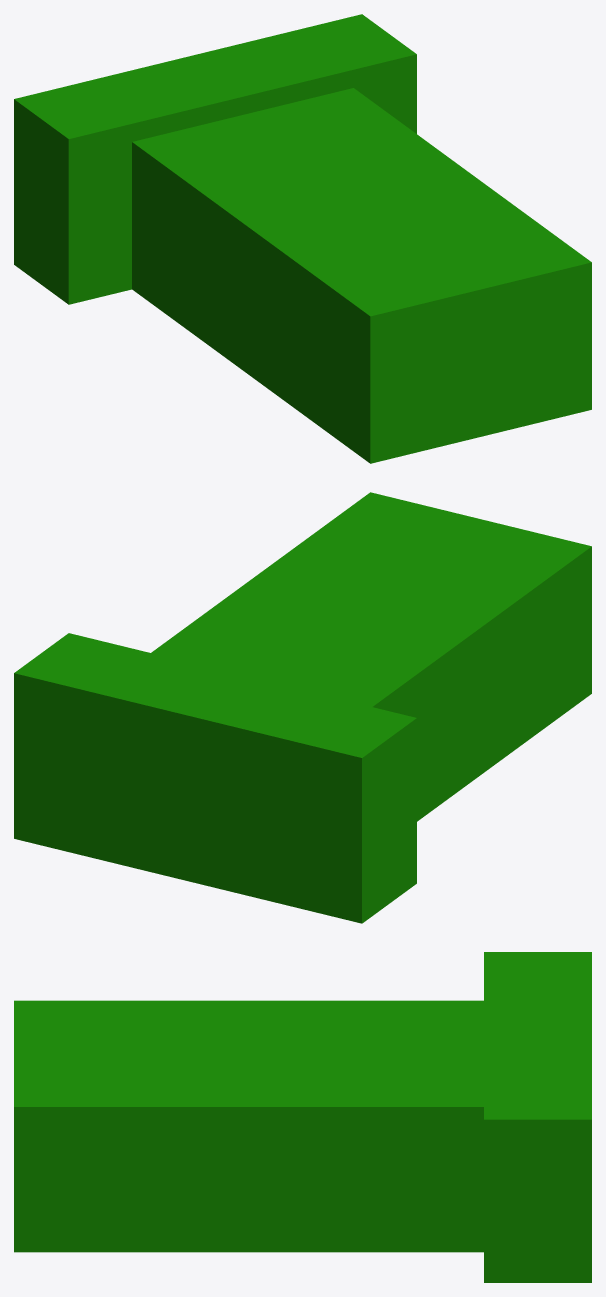
3 views of the same model, one above another, from view 1: azimuth 30°, elevation 25°; view 2: azimuth 150°, elevation 25°; view 3: azimuth 270°, elevation 25° (orthographic).
Visible parts, largest first — view 1: Cube; view 2: Cube; view 3: Cube.
Part boxes in pixels (left/top/right/bottom): Cube: left=14, top=14, right=591, bottom=463; Cube: left=14, top=492, right=591, bottom=923; Cube: left=14, top=952, right=591, bottom=1282.
Bounding box in the file's own units: 2 × 0.9095 × 2.92.
